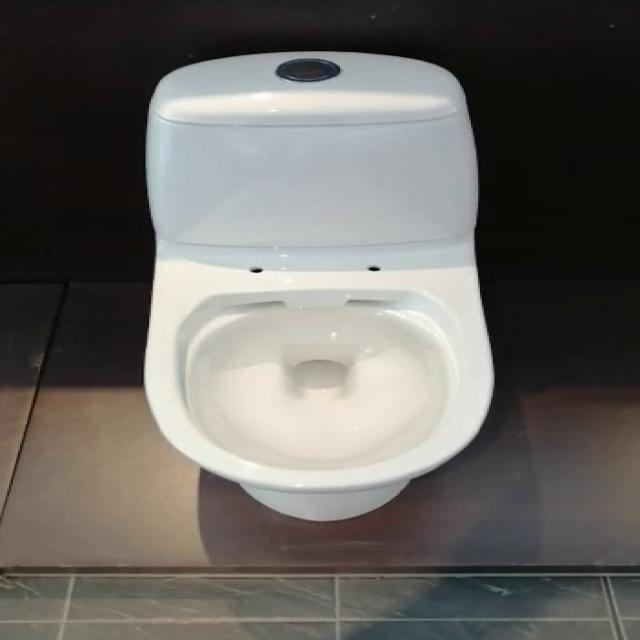toilet: (142, 50, 494, 522)
